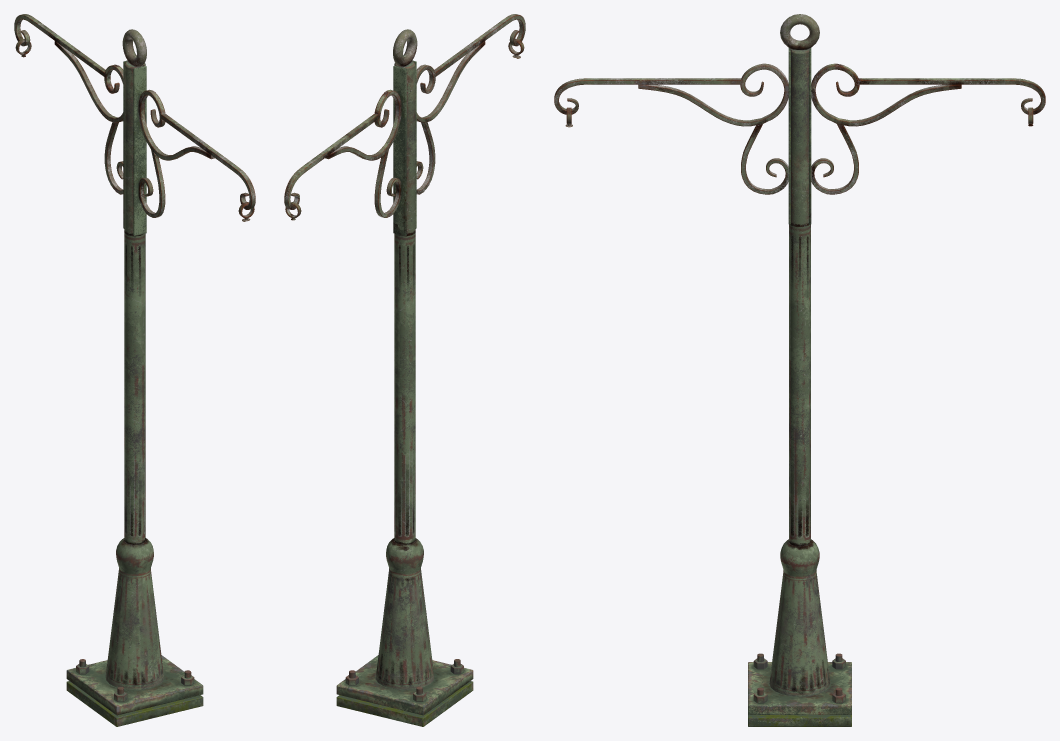
File: Palofarola.obj
The picture shows the model from 3 angles, left to right: view 1: azimuth 30°, elevation 25°; view 2: azimuth 150°, elevation 25°; view 3: azimuth 270°, elevation 25°; orthographic projection. The views are drawn at different scales.
Visible parts, largest first — view 1: defaultMaterial; view 2: defaultMaterial; view 3: defaultMaterial.
Boxes of the visible parts, x1=… form: defaultMaterial: x1=14, y1=14, x2=255, y2=726; defaultMaterial: x1=284, y1=14, x2=525, y2=726; defaultMaterial: x1=554, y1=14, x2=1045, y2=726.
Bounding box in the file's own units: 1.37 × 9.99 × 6.44.
